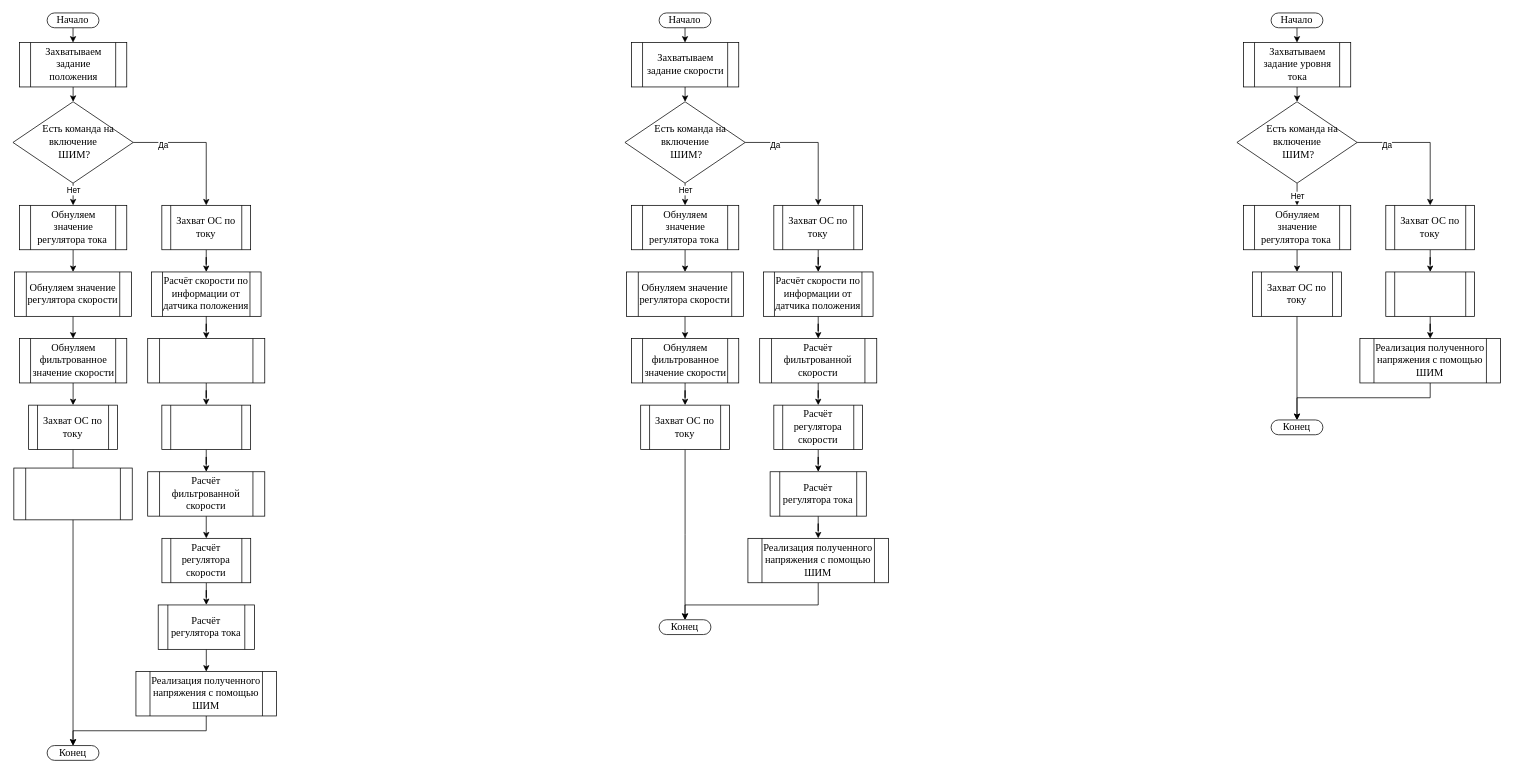
Some shapes in this 1514 by 773 pixel diagram are drawn without their labels. The shapes that lost their labels are listed below. From the top down, each one's centre as x and y in pixels, then its label:
the point at 1430,293: Расчёт регулятора
the point at 206,360: Расчёт задатчика интенсивности по положению
the point at 206,427: Расчёт регулятора положения
the point at 72,493: Обнуляем значение задатчика интенсивности по положению
